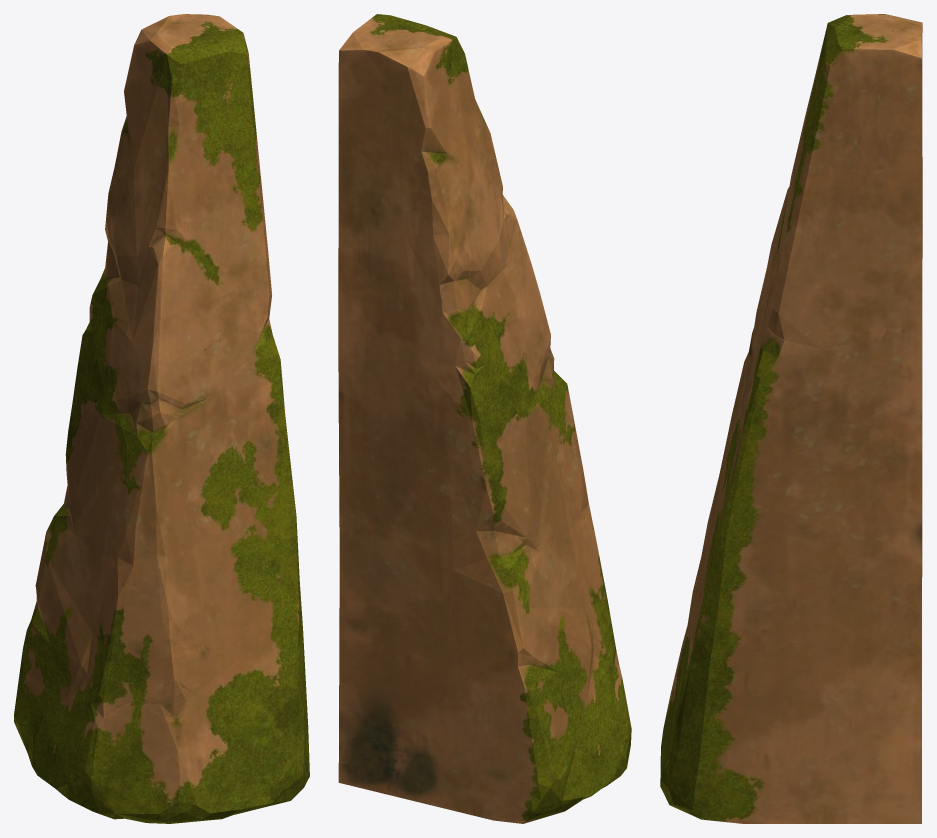
Rendered from WallTallCorner01_1.fbx.
3 views of the same model, side by side, from view 1: azimuth 30°, elevation 25°; view 2: azimuth 150°, elevation 25°; view 3: azimuth 270°, elevation 25° (orthographic). The views are drawn at different scales.
Parts seen in each view (by area): view 1: WallTallCorner01_LOD00; view 2: WallTallCorner01_LOD00; view 3: WallTallCorner01_LOD00.
Boxes of the visible parts, x1,y1,x2,y2 form: WallTallCorner01_LOD00: (14,14,309,823); WallTallCorner01_LOD00: (338,14,631,823); WallTallCorner01_LOD00: (660,14,922,823).
Bounding box in the file's own units: 60.51 × 197 × 60.43.
